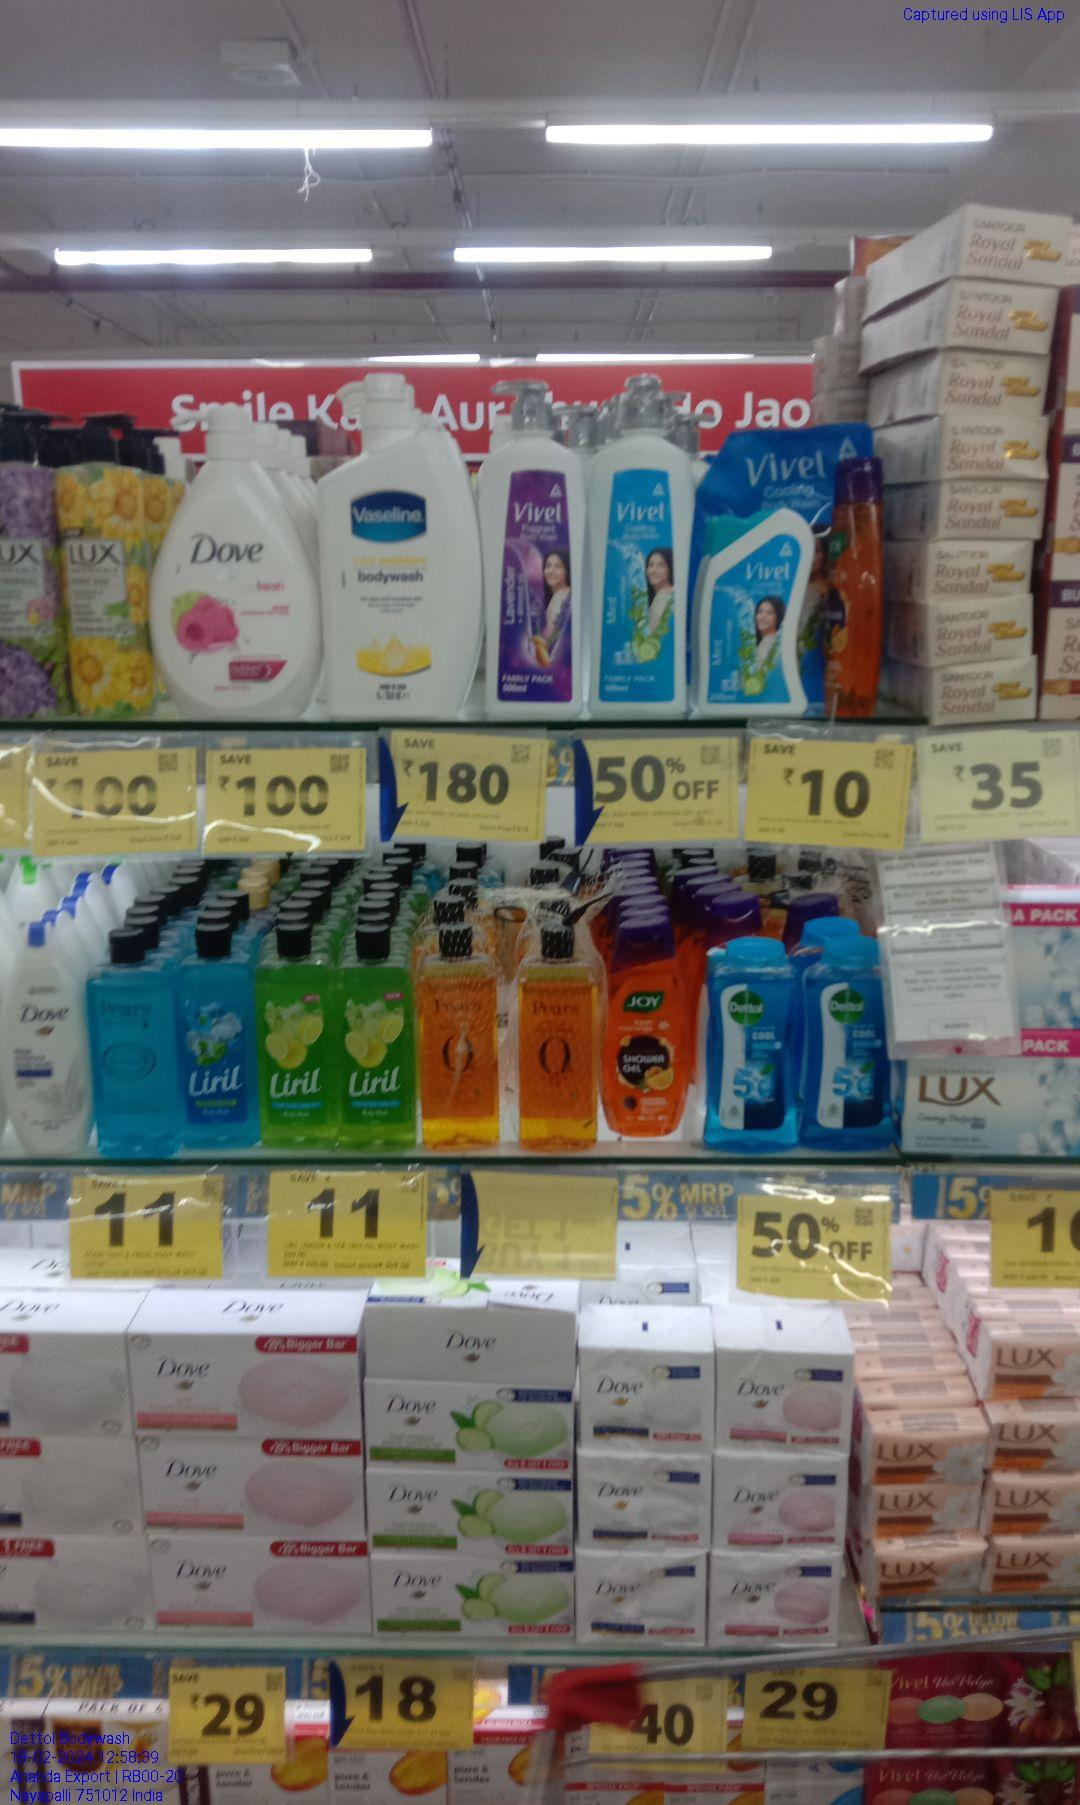Dettol_Bodywash_Cool: (705, 933, 804, 1151), (809, 933, 894, 1148)
Joy_Shower_Gel_Mandarin_and_Lemongrass_250ML: (604, 917, 689, 1139)
Liril_Cooling_Mint_Body_Wash_250ML: (181, 922, 256, 1152)
Liril_Lime_and_Tea_Tree_Oil_Body_Wash_250ML: (257, 915, 337, 1144), (339, 918, 418, 1148)
